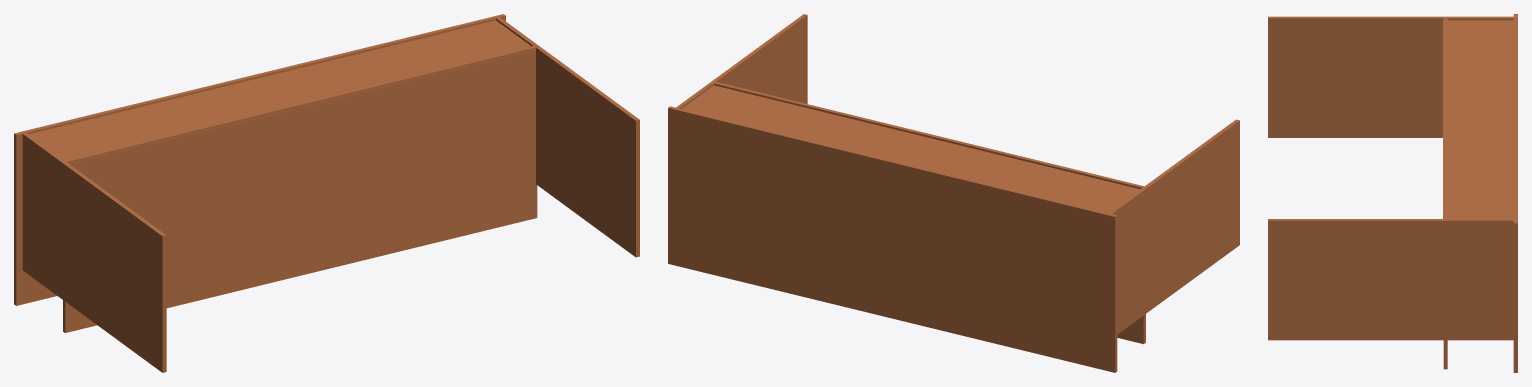
The model's file is bangiaodich.fbx.
3 renders of one model, left to right at view 1: azimuth 30°, elevation 25°; view 2: azimuth 150°, elevation 25°; view 3: azimuth 270°, elevation 25°, orthographic. The views are drawn at different scales.
Visible parts, largest first — view 1: imagetostl_mesh2, imagetostl_mesh3, imagetostl_mesh1, imagetostl_mesh4, imagetostl_mesh0; view 2: imagetostl_mesh0, imagetostl_mesh3, imagetostl_mesh1, imagetostl_mesh4, imagetostl_mesh2; view 3: imagetostl_mesh4, imagetostl_mesh3, imagetostl_mesh1, imagetostl_mesh0, imagetostl_mesh2.
Part boxes in pixels (bbox=[...]): imagetostl_mesh2: bbox=[63, 45, 537, 332]; imagetostl_mesh3: bbox=[22, 132, 166, 372]; imagetostl_mesh1: bbox=[29, 20, 535, 166]; imagetostl_mesh4: bbox=[495, 17, 639, 257]; imagetostl_mesh0: bbox=[14, 14, 505, 305]; imagetostl_mesh0: bbox=[668, 106, 1117, 372]; imagetostl_mesh3: bbox=[1107, 119, 1239, 334]; imagetostl_mesh1: bbox=[682, 85, 1139, 212]; imagetostl_mesh4: bbox=[675, 14, 807, 108]; imagetostl_mesh2: bbox=[714, 81, 1145, 344]; imagetostl_mesh4: bbox=[1268, 219, 1515, 340]; imagetostl_mesh3: bbox=[1268, 16, 1513, 137]; imagetostl_mesh1: bbox=[1443, 20, 1513, 218]; imagetostl_mesh0: bbox=[1513, 14, 1517, 372]; imagetostl_mesh2: bbox=[1443, 17, 1447, 369].
Size of the model in its own units: 600 by 200 by 303.
